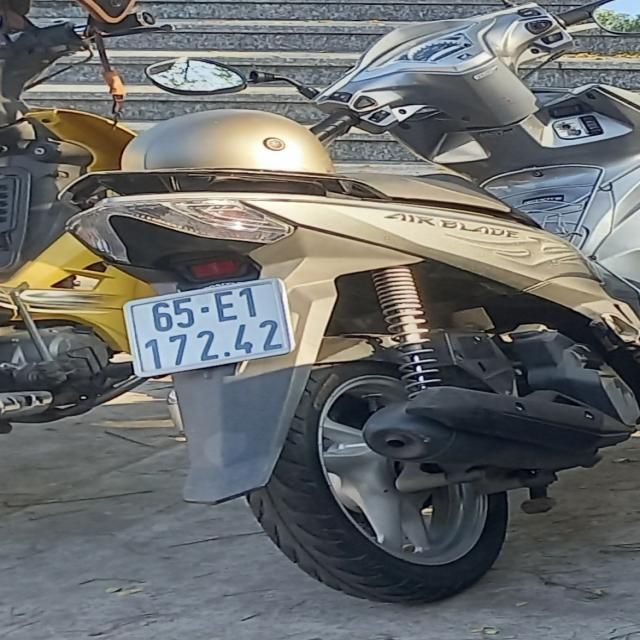1: (144, 336, 164, 369), (239, 286, 258, 316)
2: (258, 319, 286, 351), (196, 329, 220, 362)
4: (235, 323, 255, 354)
5: (172, 297, 197, 329)
6: (151, 301, 174, 333)
7: (168, 333, 187, 366)
E: (213, 289, 238, 321)
